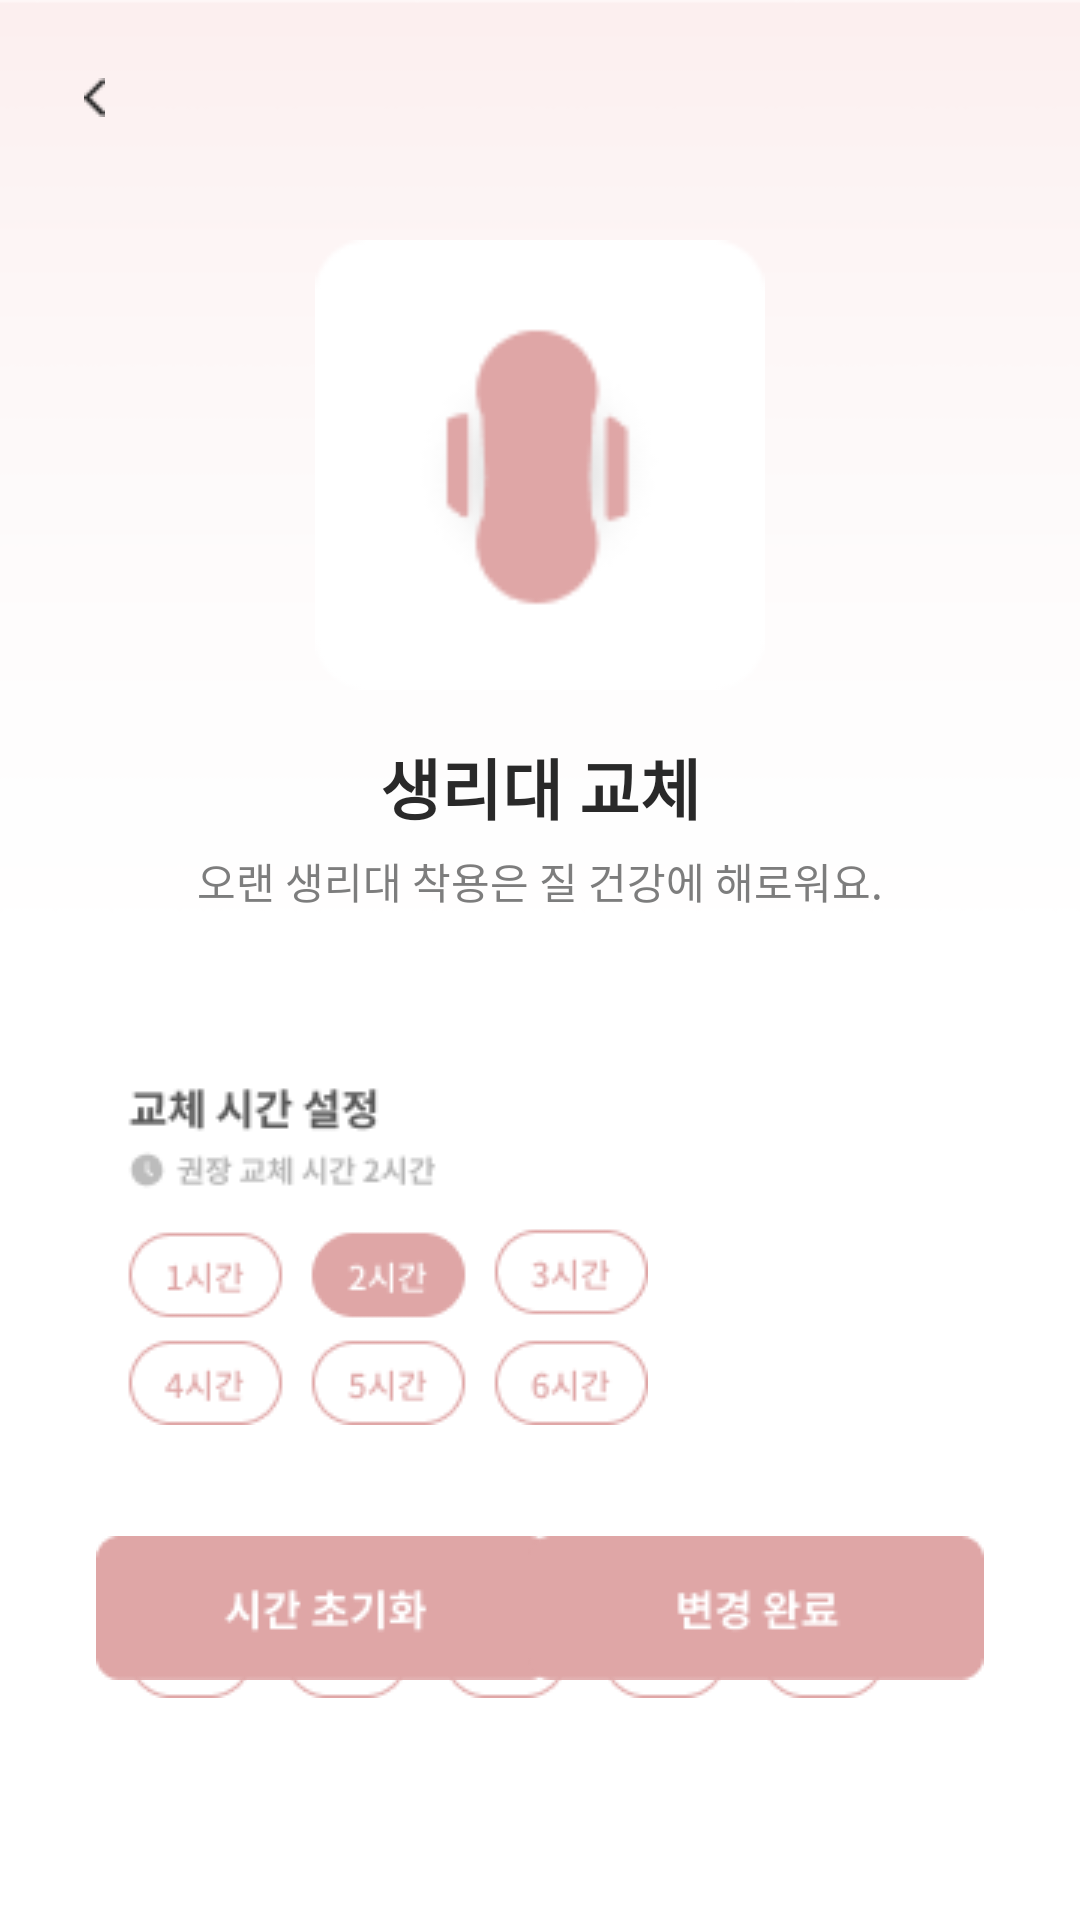

Icons on this 1080*1920 Android screen, each with the point to tap as (x,y):
alarm pad: (537,467)
backbutton: (94,97)
